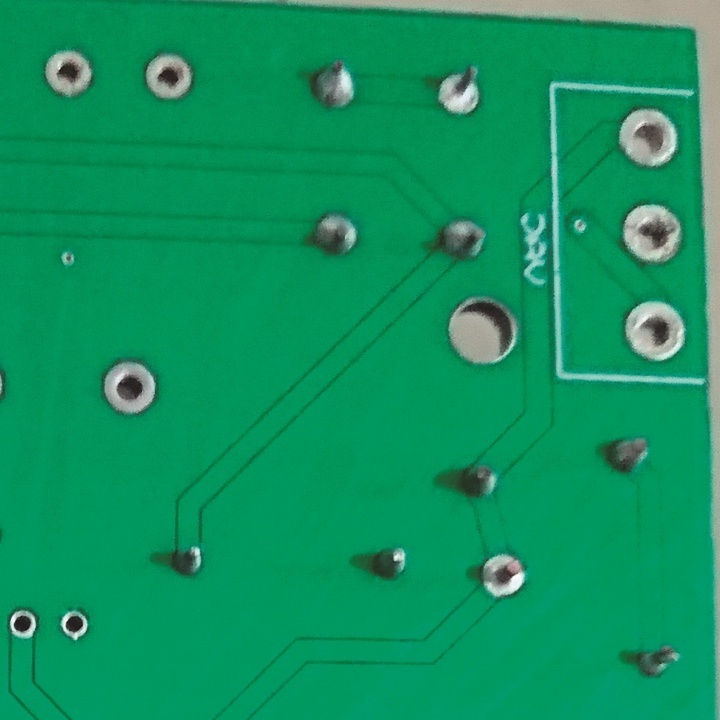F: (615, 103, 684, 175), (620, 295, 690, 363), (619, 200, 687, 270), (100, 354, 162, 418), (140, 49, 198, 107), (42, 43, 101, 100), (434, 60, 487, 118), (478, 549, 533, 604), (59, 606, 99, 649), (7, 606, 43, 640)
